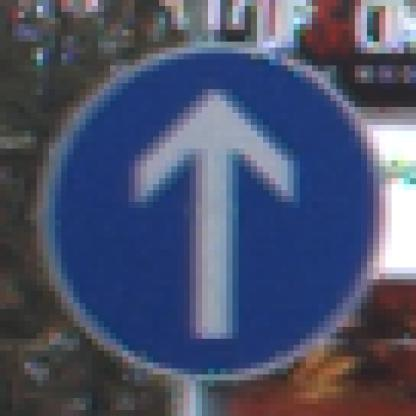AheadOnly: (38, 43, 380, 381)
